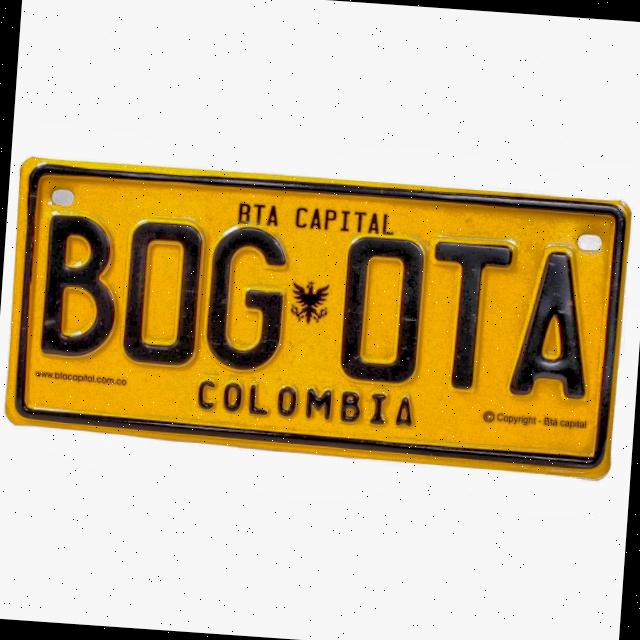A: (500, 242, 601, 408)
B: (30, 206, 127, 366)
G: (199, 224, 293, 378)
O: (323, 232, 432, 388), (109, 213, 210, 375)
T: (420, 234, 517, 394)
